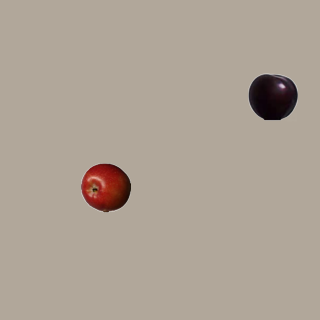Apple Braeburn: (80, 162, 130, 212)
Cherry Wax Black: (247, 71, 297, 121)
